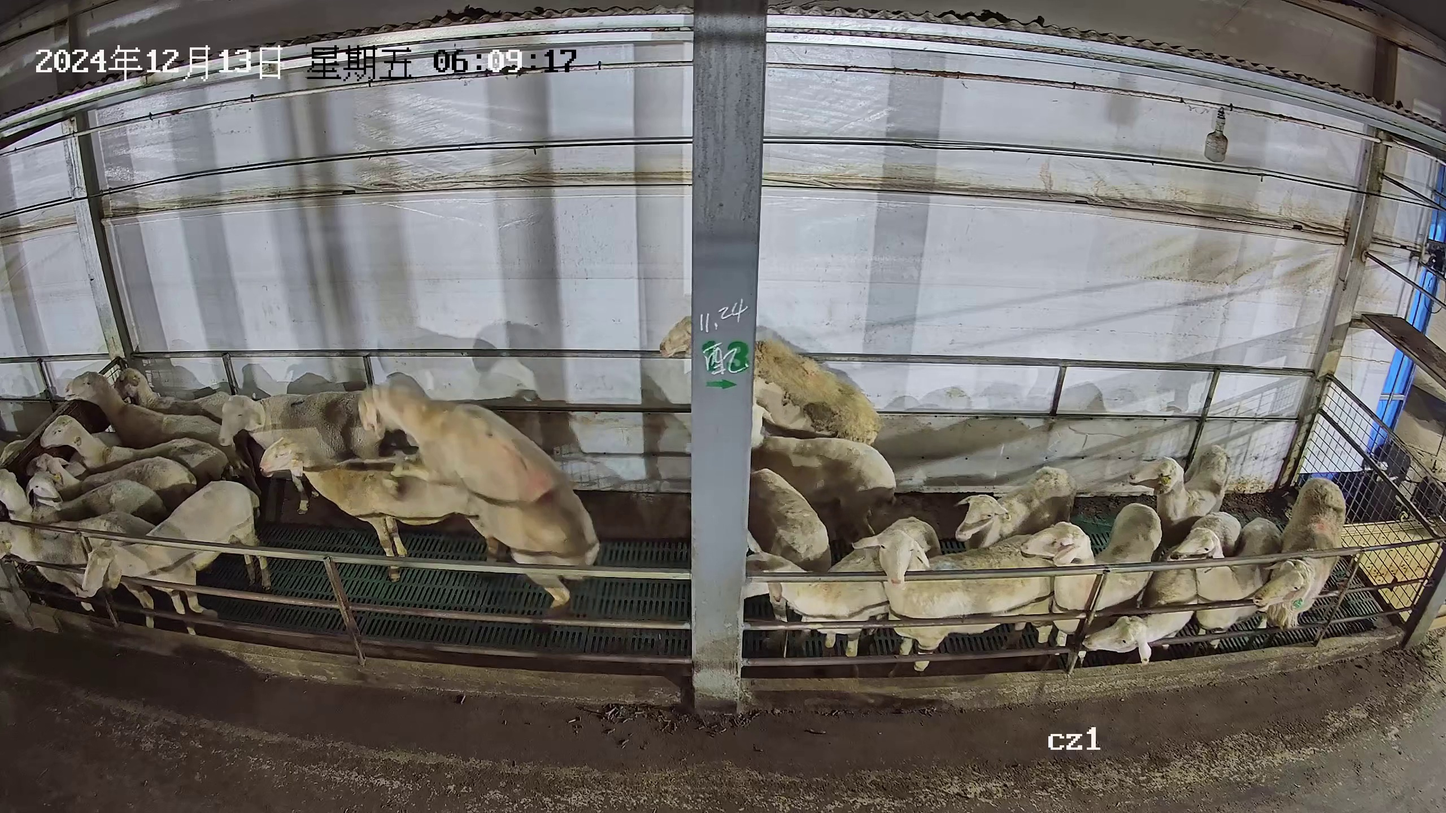Smounting: (253, 372, 600, 613)
mounted: (257, 430, 503, 583)
